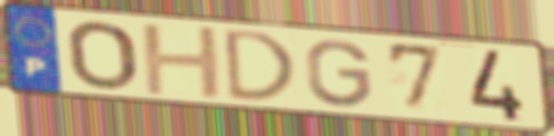4: (467, 47, 527, 123)
7: (384, 40, 447, 117)
D: (222, 27, 300, 103)
G: (303, 37, 374, 109)
H: (138, 23, 227, 100)
O: (65, 19, 140, 92)
